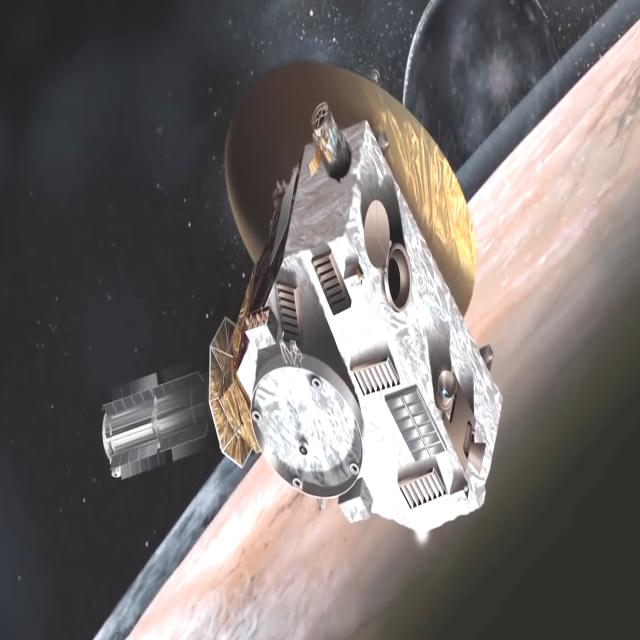medium_debris: (102, 43, 509, 552)
